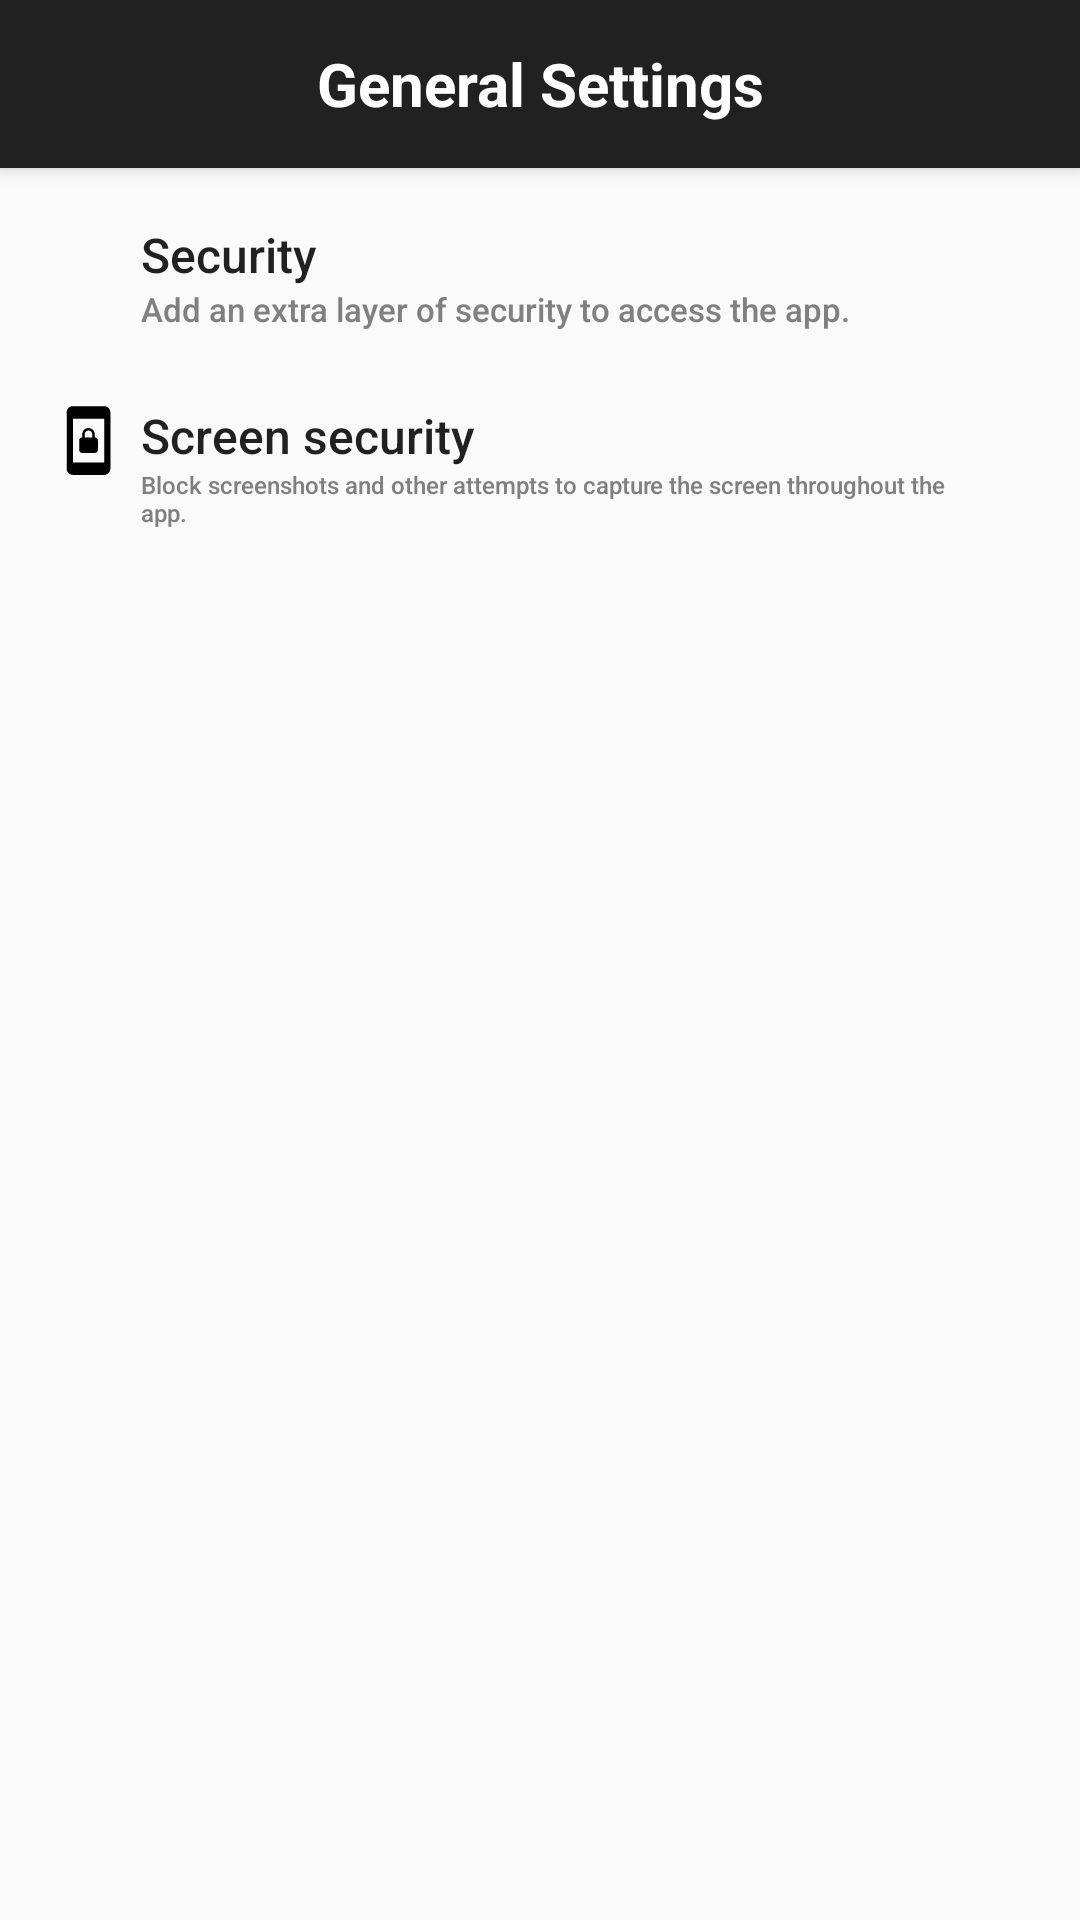

Named icons in this screenshot (1080*1920) and their bounding boxes, region(x1, y1, x2, y2):
screen lock portrait: region(66, 406, 111, 475)
